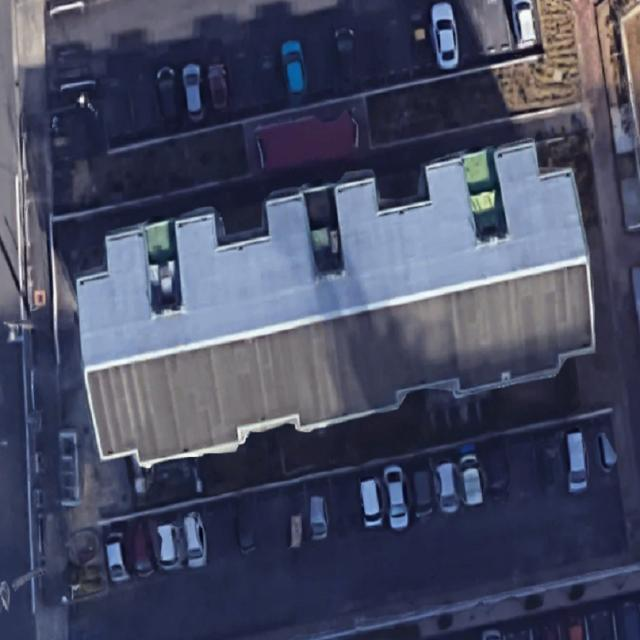Batiment: (76, 142, 595, 466)
